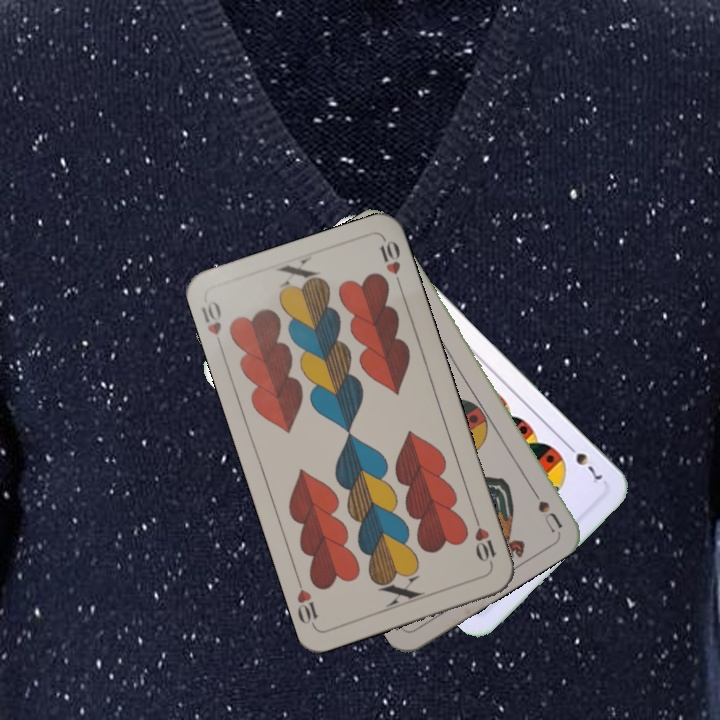H10: (470, 512, 499, 570), (197, 296, 226, 353)
S7: (561, 438, 606, 486)
SU: (524, 479, 565, 534)
